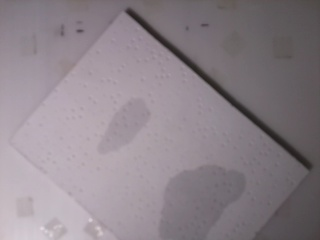Water_detected: (170, 177, 228, 232), (101, 103, 145, 156)
